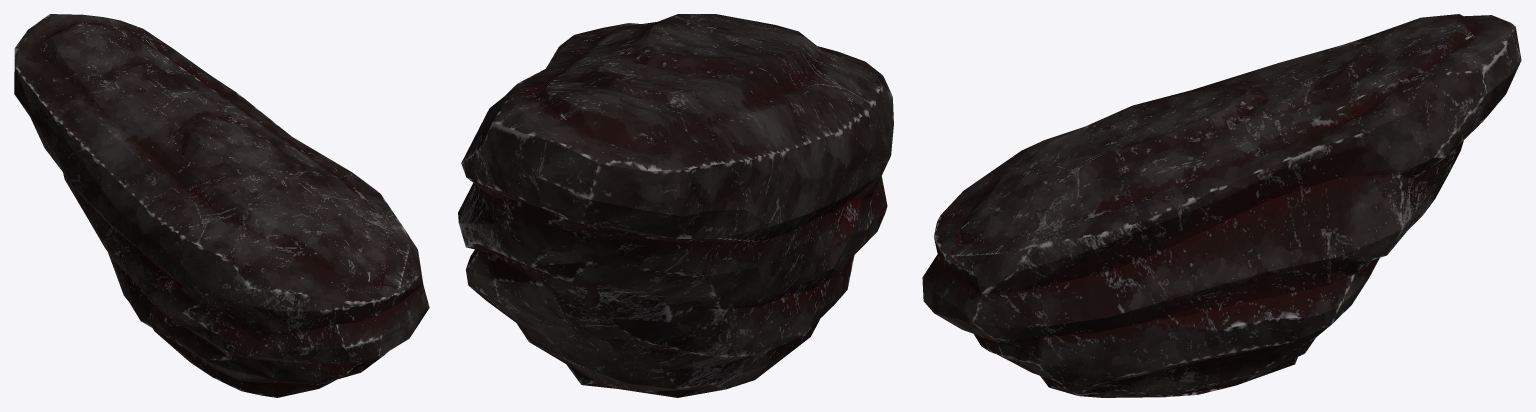
The model's file is rocktest.glb.
3 views of the same model, side by side, from view 1: azimuth 30°, elevation 25°; view 2: azimuth 150°, elevation 25°; view 3: azimuth 270°, elevation 25° (orthographic). The views are drawn at different scales.
Visible parts, largest first — view 1: Cube; view 2: Cube; view 3: Cube.
Part boxes in pixels (left/top/right/bottom): Cube: left=14, top=14, right=429, bottom=397; Cube: left=458, top=14, right=893, bottom=397; Cube: left=922, top=14, right=1521, bottom=397.
Bounding box in the file's own units: 2.63 × 2.95 × 4.95.
Materials: 1 (1 with a texture image).
